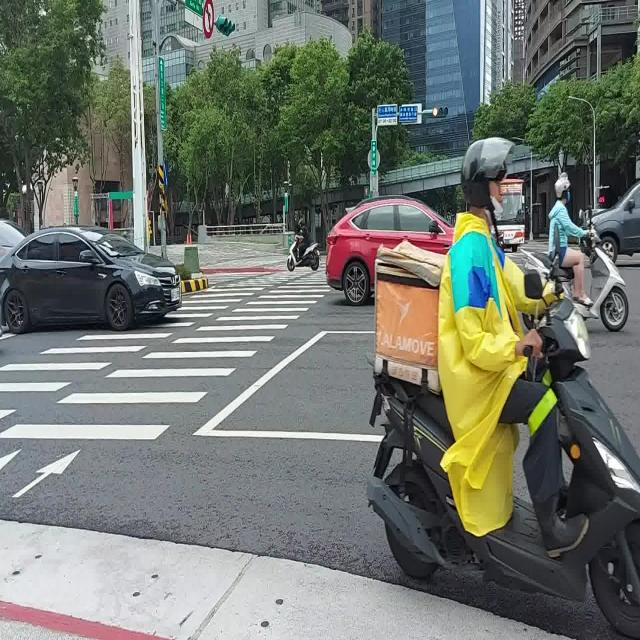bus: (498, 178, 525, 250)
car: (0, 227, 180, 333), (325, 196, 452, 302), (592, 180, 640, 260)
crosswalk: (0, 267, 331, 441), (0, 270, 309, 428)
motocycle: (368, 298, 640, 638), (578, 227, 629, 331), (510, 247, 551, 279), (288, 233, 320, 271), (551, 267, 572, 298)
